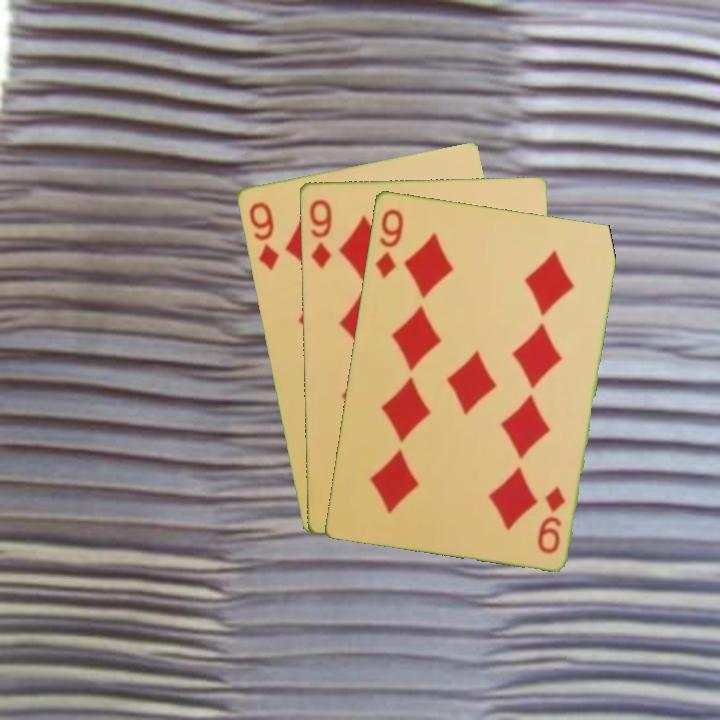9d: (244, 198, 282, 274), (371, 205, 406, 281), (533, 482, 568, 556), (305, 195, 335, 271)
